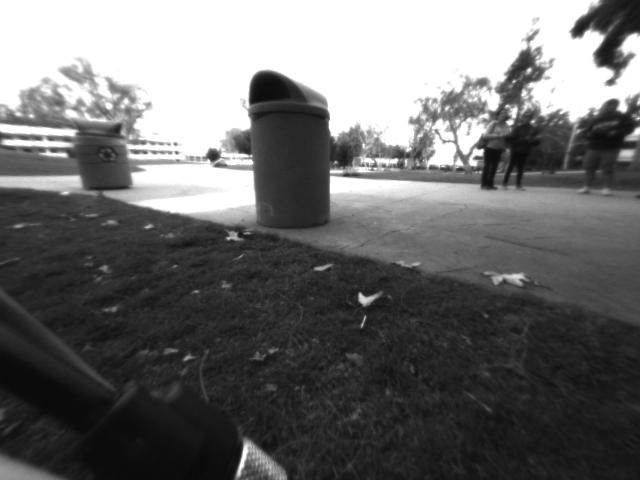trashcan: (246, 65, 334, 234)
